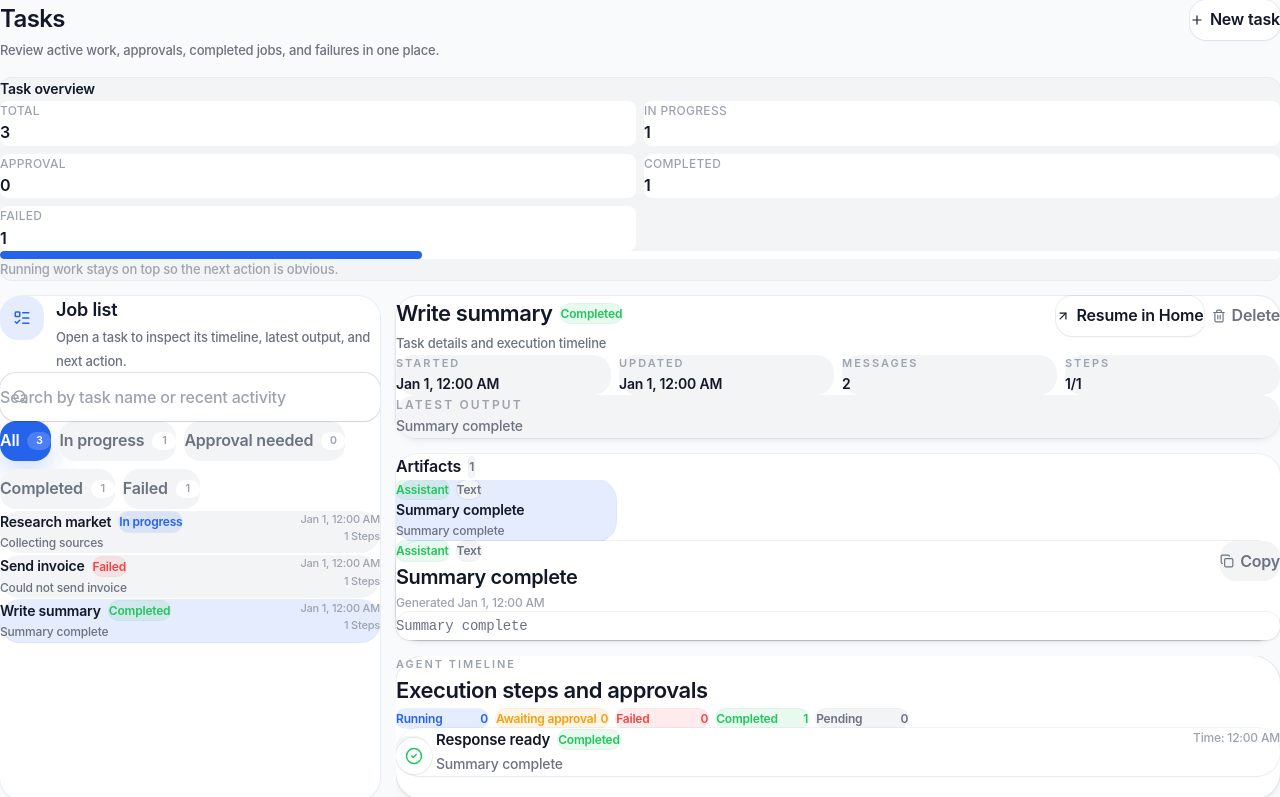
Test: TasksPage › filters the list by failed status
The image size is (1280, 797).
Step 1. Click the button with test id "tasks-filter-failed" → (161, 489), box top-left (123, 469), bottom-right (200, 509)
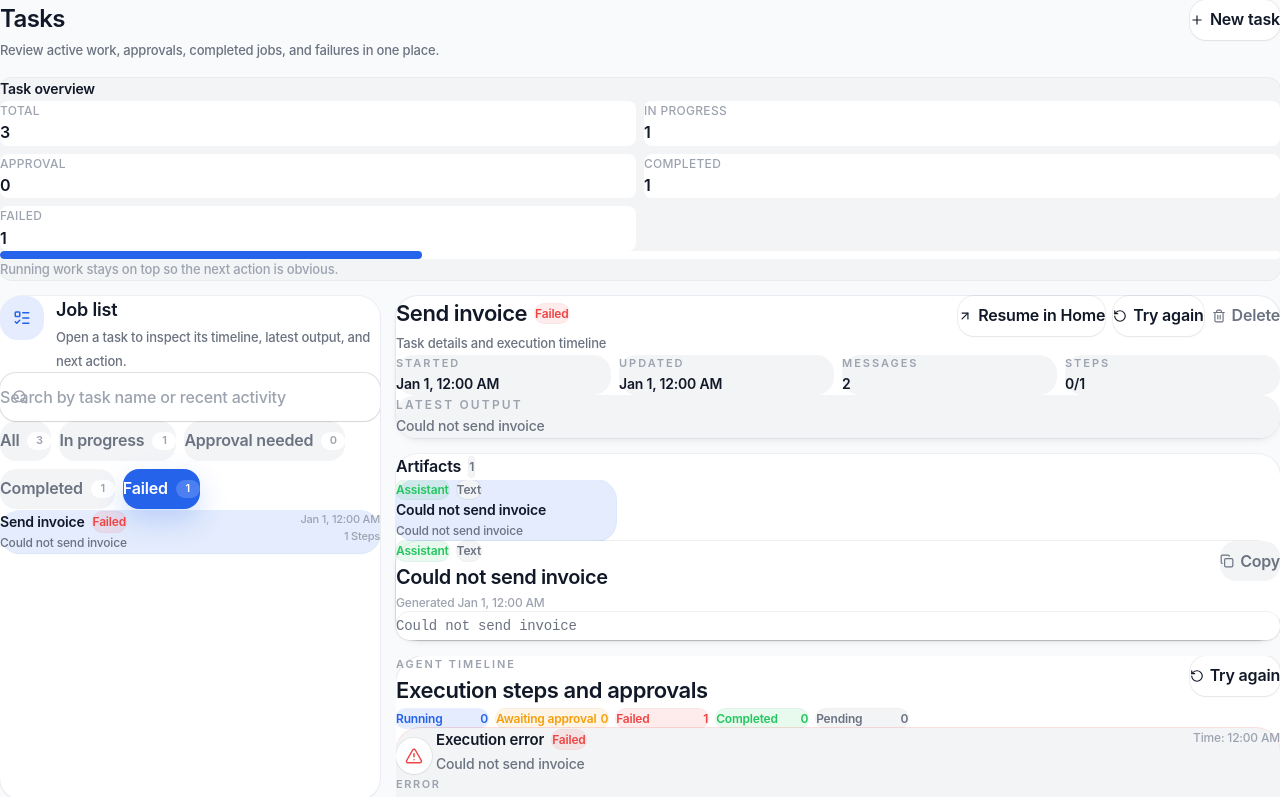
Expected: the button with test id "tasks-row-fail-1" is shown, top-left (0, 511), bottom-right (380, 553)
Expected: the button with test id "tasks-row-run-1" is gone
Expected: the button with test id "tasks-row-done-1" is gone
